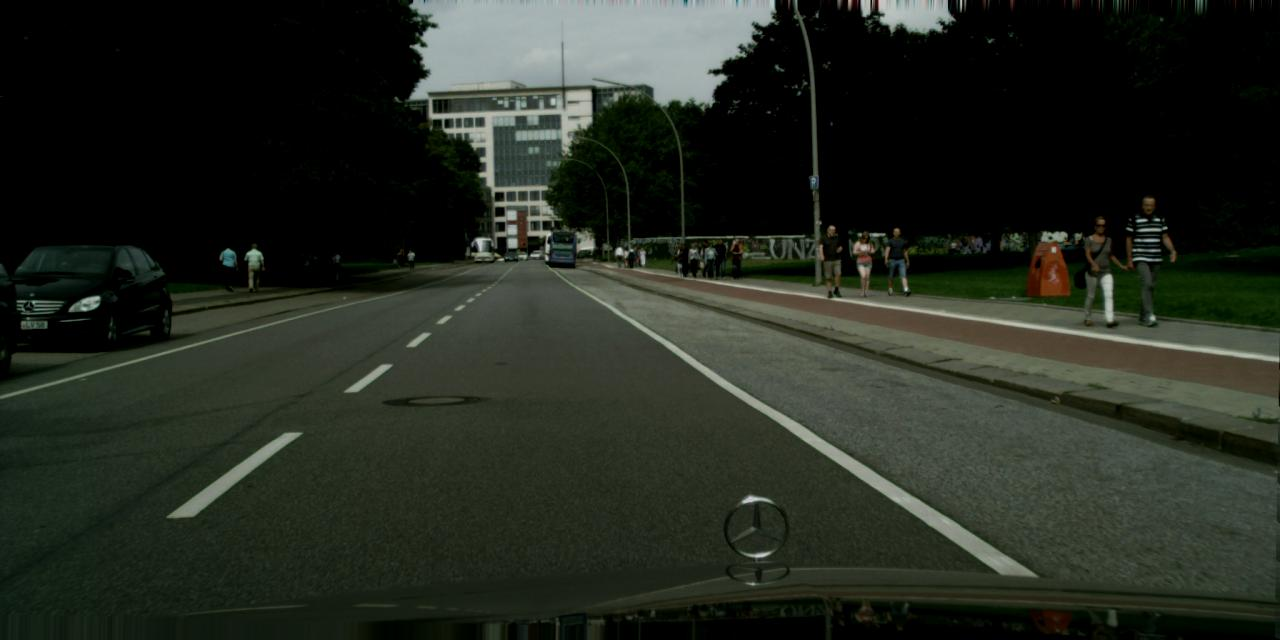ped: (1120, 194, 1174, 325), (1077, 215, 1122, 326), (817, 224, 847, 297), (883, 227, 911, 295), (852, 231, 878, 296), (219, 242, 239, 290), (244, 242, 263, 291), (728, 238, 744, 278), (712, 239, 727, 278), (317, 243, 332, 280), (703, 241, 718, 277), (686, 243, 701, 278), (699, 240, 713, 276), (298, 247, 312, 281), (310, 248, 324, 280), (678, 243, 691, 274), (328, 248, 341, 278), (309, 247, 321, 278), (672, 245, 684, 273), (691, 241, 701, 269), (614, 242, 623, 266), (626, 246, 635, 266), (622, 246, 630, 266), (630, 246, 638, 266), (638, 247, 646, 267), (407, 249, 414, 268), (397, 248, 404, 266), (448, 249, 454, 262), (445, 250, 449, 262)
